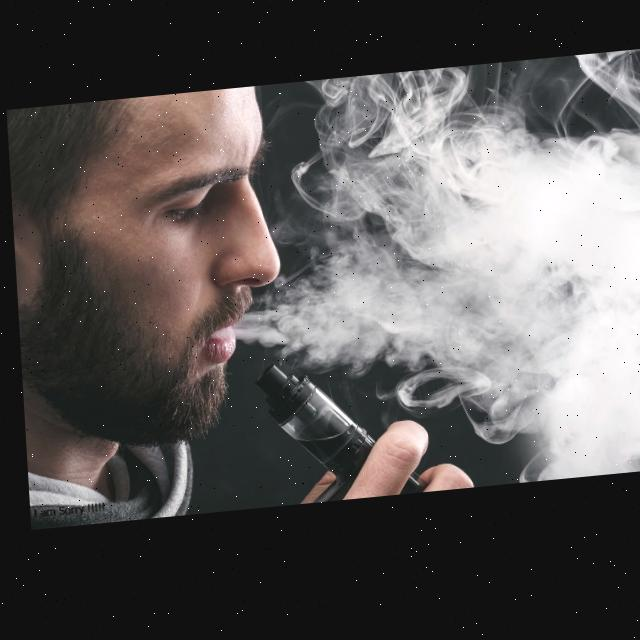vape: (250, 359, 423, 513)
